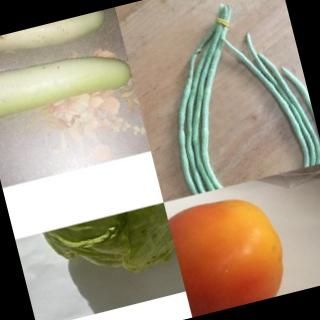Tomat: (165, 182, 306, 317)
